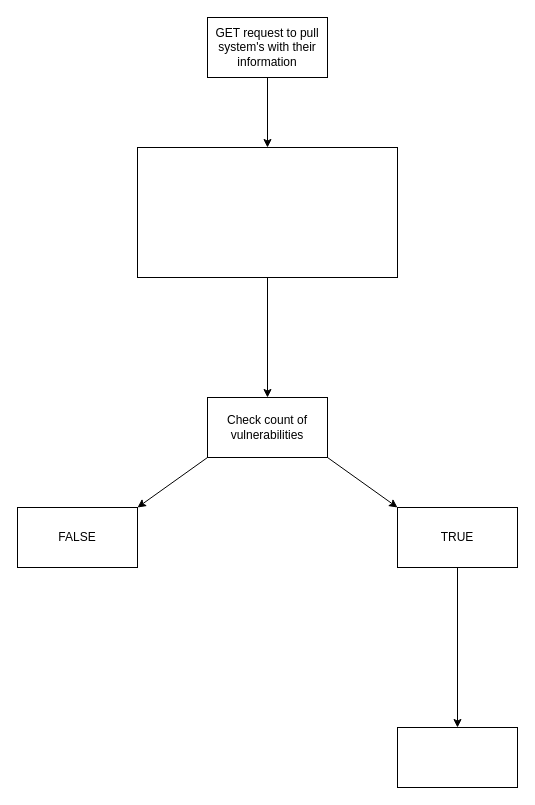
The diagram is 535 pixels wide and 805 high, and some of its shapes have lost their labels. Each missing label, with the centre of its shape:
GET request to pull latest 5 vulnerabilities for related system.: [267,212]
Send mail to related team about patching: [457,757]
